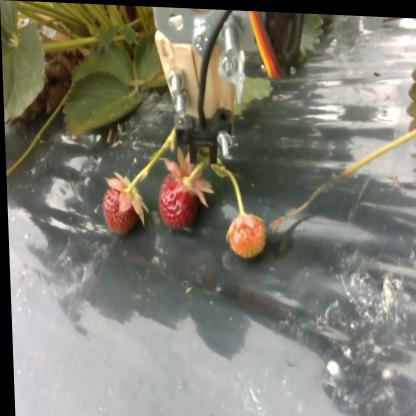ripe: (154, 164, 198, 228), (98, 183, 140, 235)
